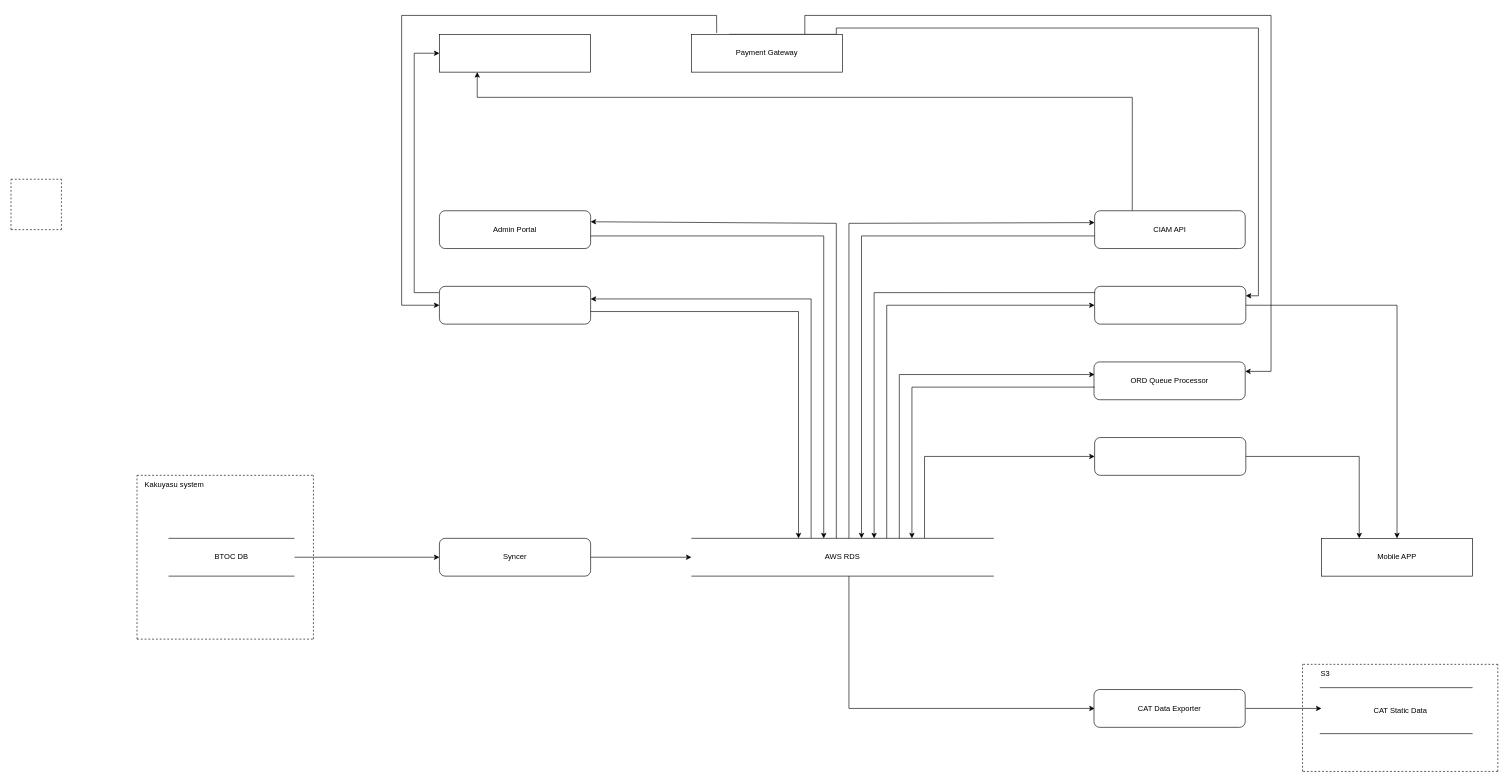
This 1509x783 diagram has some shape labels left out. The shapes that lost their labels are listed below. From the top down, each one's centre as x and y in pixels, then its label:
At (x=515, y=53): "AWS SES".
At (x=515, y=305): "CS Admin".
At (x=1170, y=305): "ORD API".
At (x=1170, y=456): "Coupon API".
